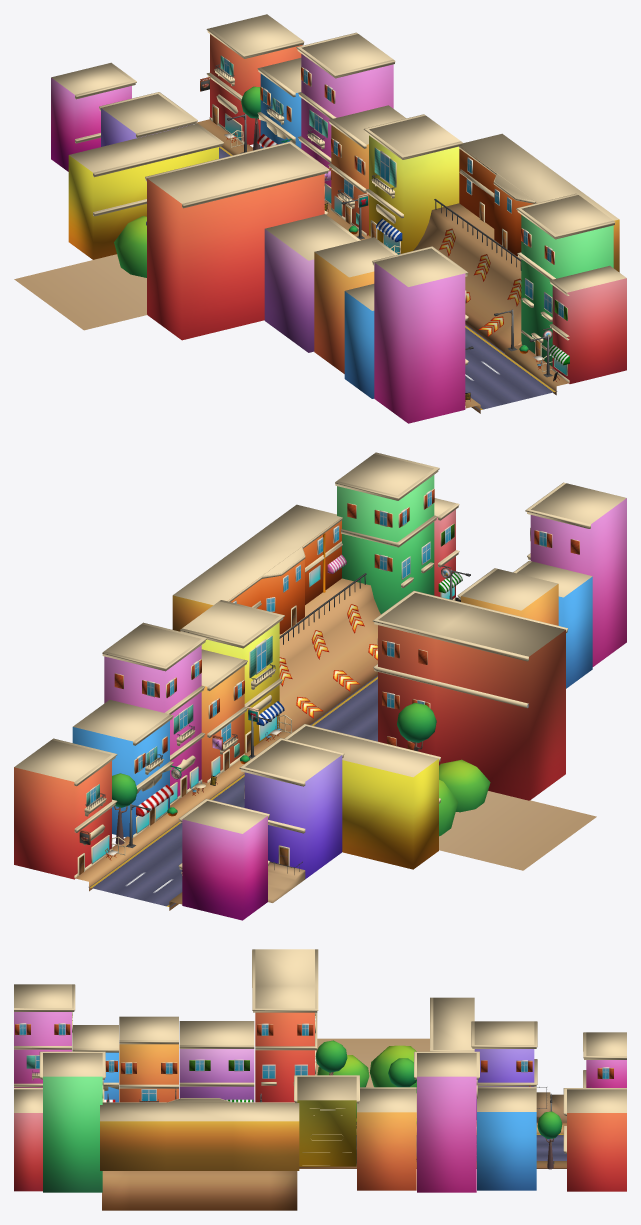
File: City with Slider.fbx
3 views of the same model, one above another, from view 1: azimuth 30°, elevation 25°; view 2: azimuth 150°, elevation 25°; view 3: azimuth 270°, elevation 25° (orthographic). The views are drawn at different scales.
Visible parts, largest first — view 1: city, side road, road; view 2: city, side road, road; view 3: city, side road, road.
Part boxes in pixels (x1,y1,x2,y2): city: (14,14,626,423); side road: (413,203,521,352); road: (219,146,557,410); city: (14,452,626,920); side road: (279,578,380,731); road: (88,675,377,907); city: (14,949,626,1192); side road: (102,1171,297,1210); road: (356,1134,566,1160).
Size of the model in its own units: 1581 by 532 by 2407.
